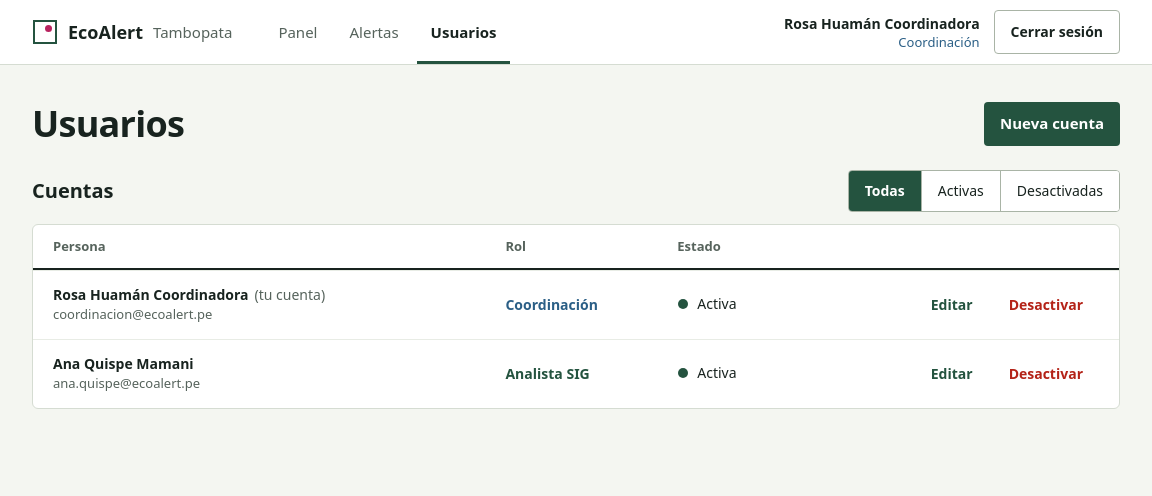
Scenario: UsuariosPage (RF-02) › edita solo los campos que cambiaron
Expected: the text "ana.quispe@ecoalert.pe" is shown, [53,374,200,392]
Click the button with aria-label "Editar ana.quispe@ecoalert.pe".
click(952, 374)  # box [915,352,989,396]
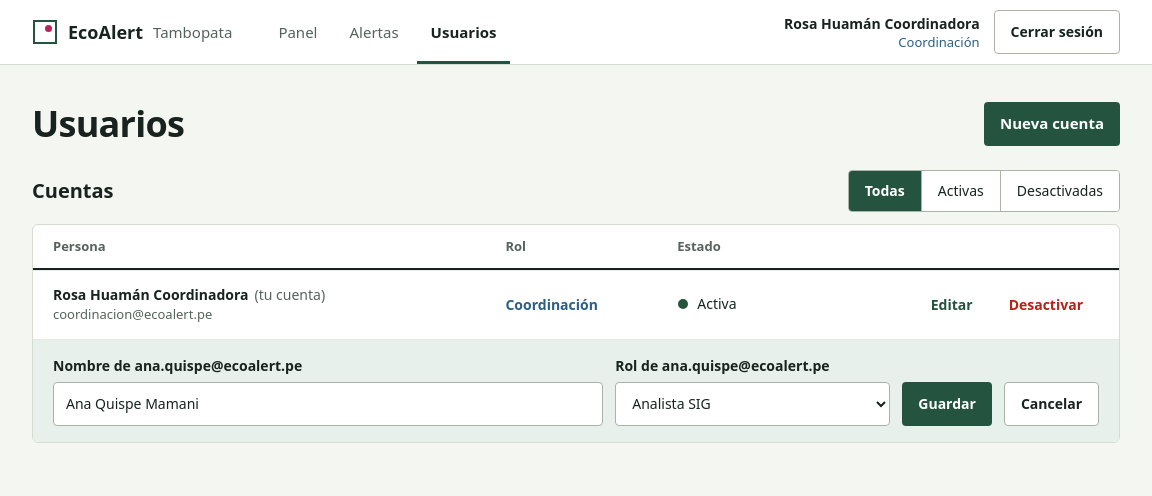
Select "Coordinación" in the dropdown labelled "Rol de ana.quispe@ecoalert.pe" at point(753, 404), box [615,382,890,426]
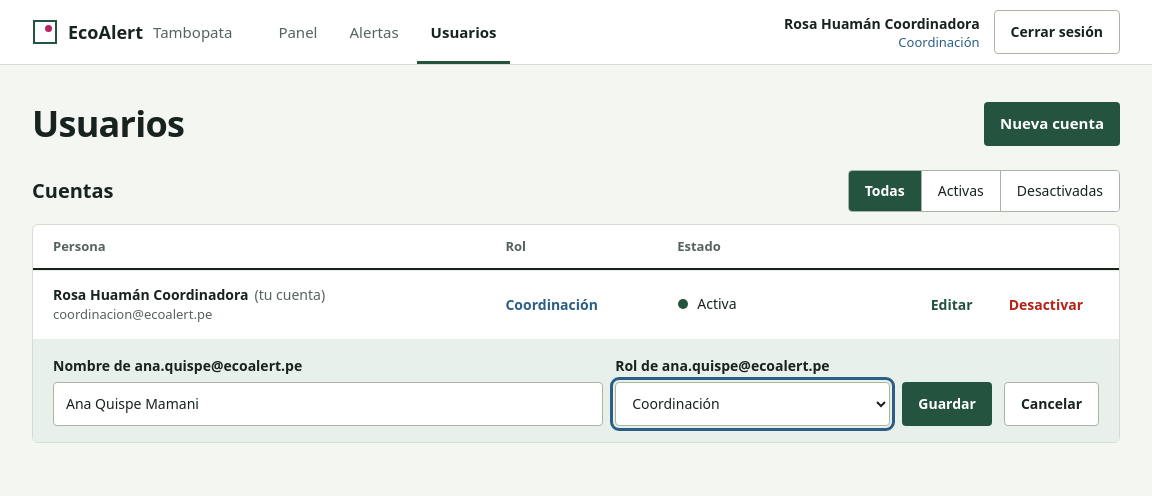
Click the button "Guardar".
click(947, 404)  # box [902,382,992,426]
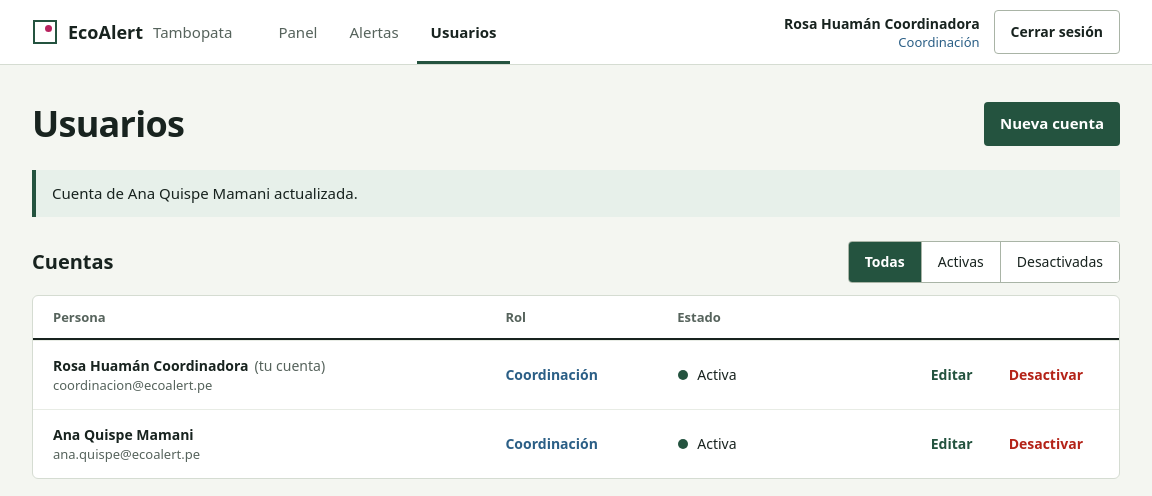
Result: the text "Cuenta de Ana Quispe Mamani actualizada." is shown at [32,170,1120,216]
Result: the text "Coordinación" in the row of "ana.quispe@ecoalert.pe" is shown at [506,434,598,453]
